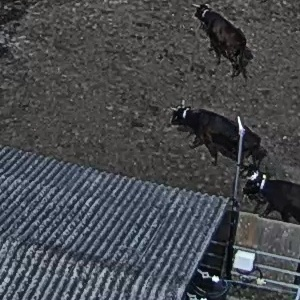cow: (157, 101, 267, 170), (184, 1, 265, 89), (228, 166, 300, 222)
